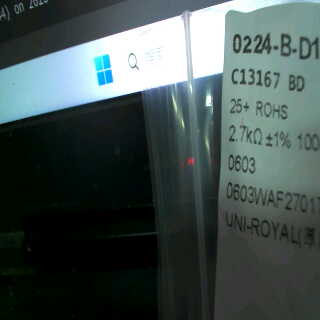2.7kR: (224, 121, 266, 151)
